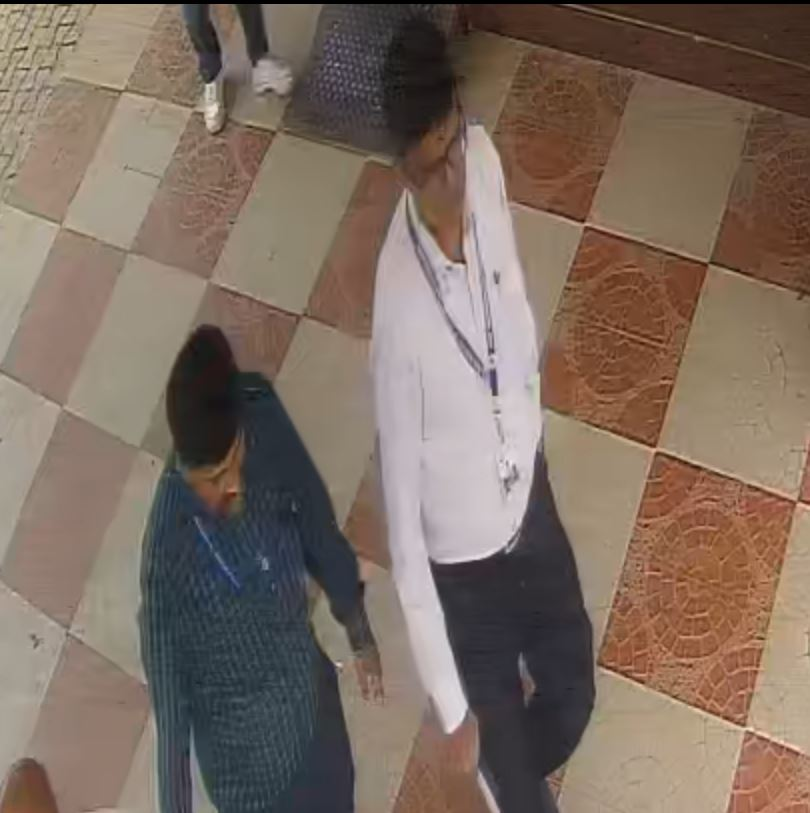not intruder: (352, 17, 592, 813), (122, 314, 381, 813)
